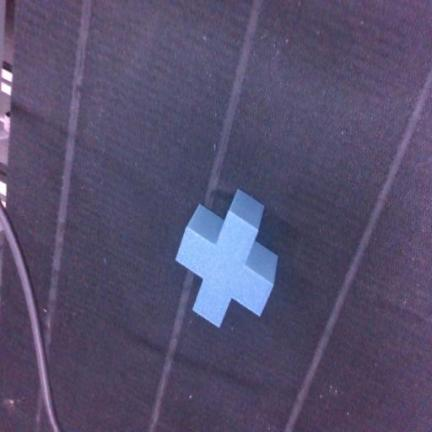cross: (177, 190, 277, 326)
